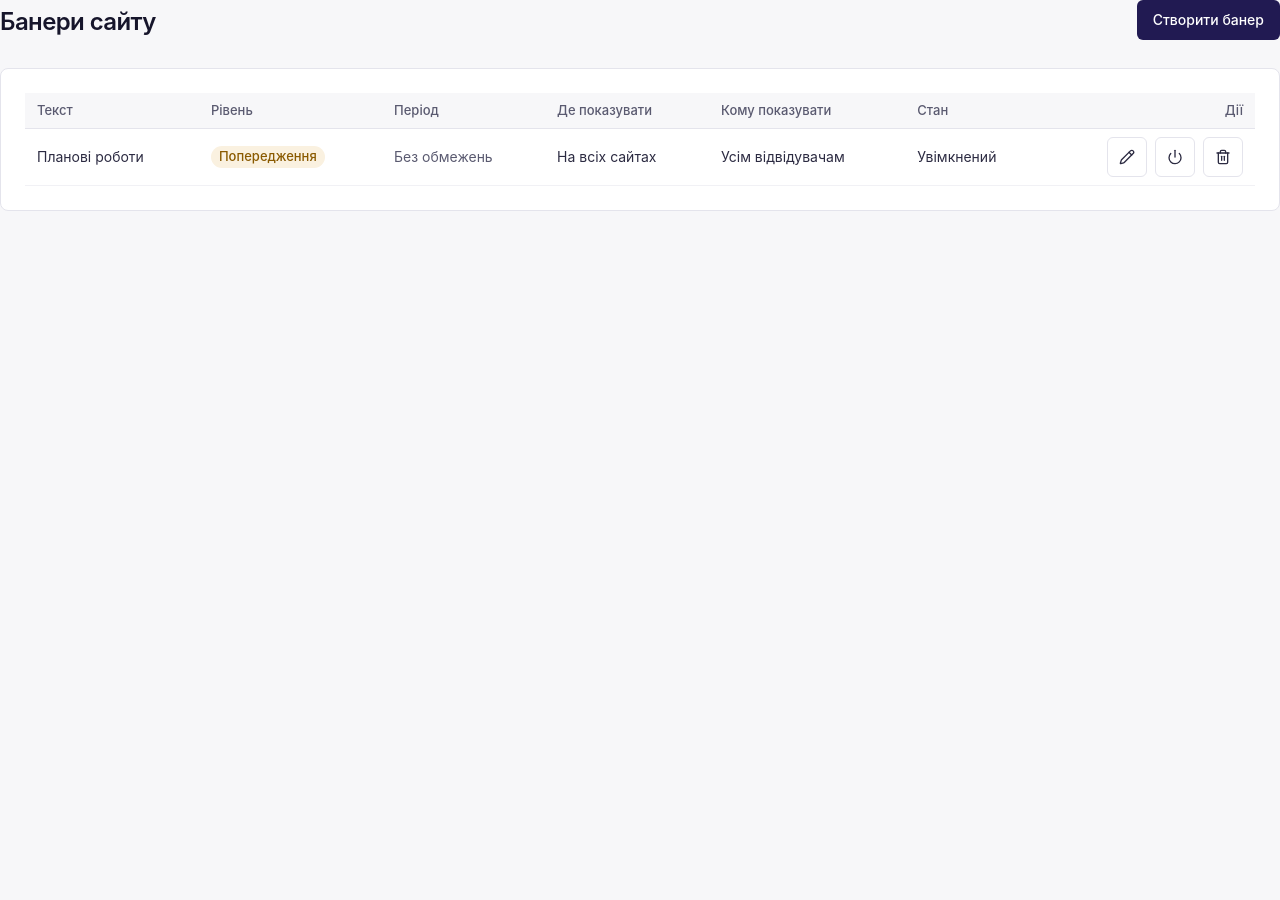
Test: banners admin page › uses icon actions and the requested target names without a separate event heading
Expected: the button named "Вимкнути" is empty, 1155,137 -> 1195,177
Expected: the button named "Видалити" is empty, 1203,137 -> 1243,177
Click the button named "Редагувати". click: (1127, 157)
box: 1107,137 -> 1147,177
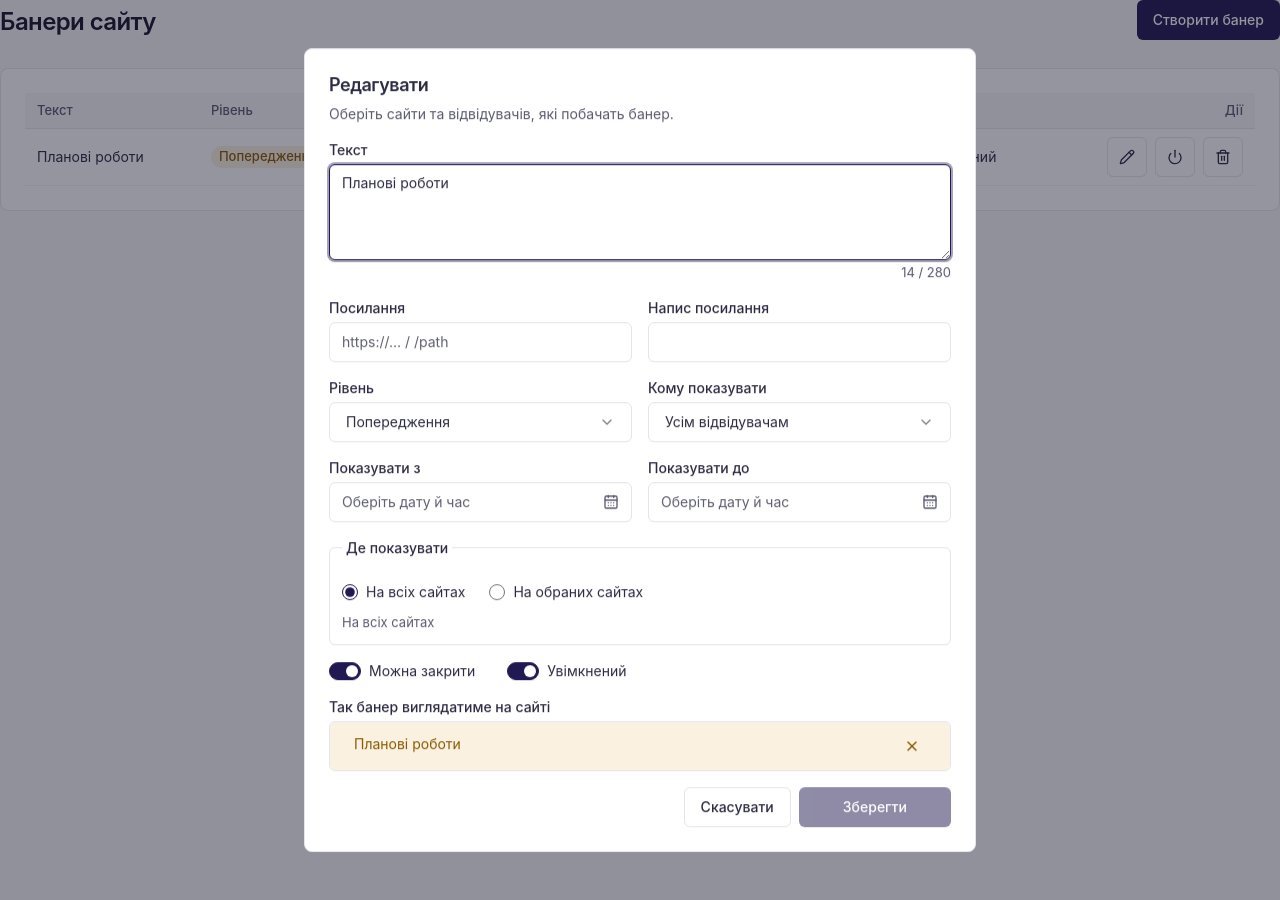
Click the radio button labelled "На обраних сайтах". click: (497, 592)
box: 489,584 -> 505,600
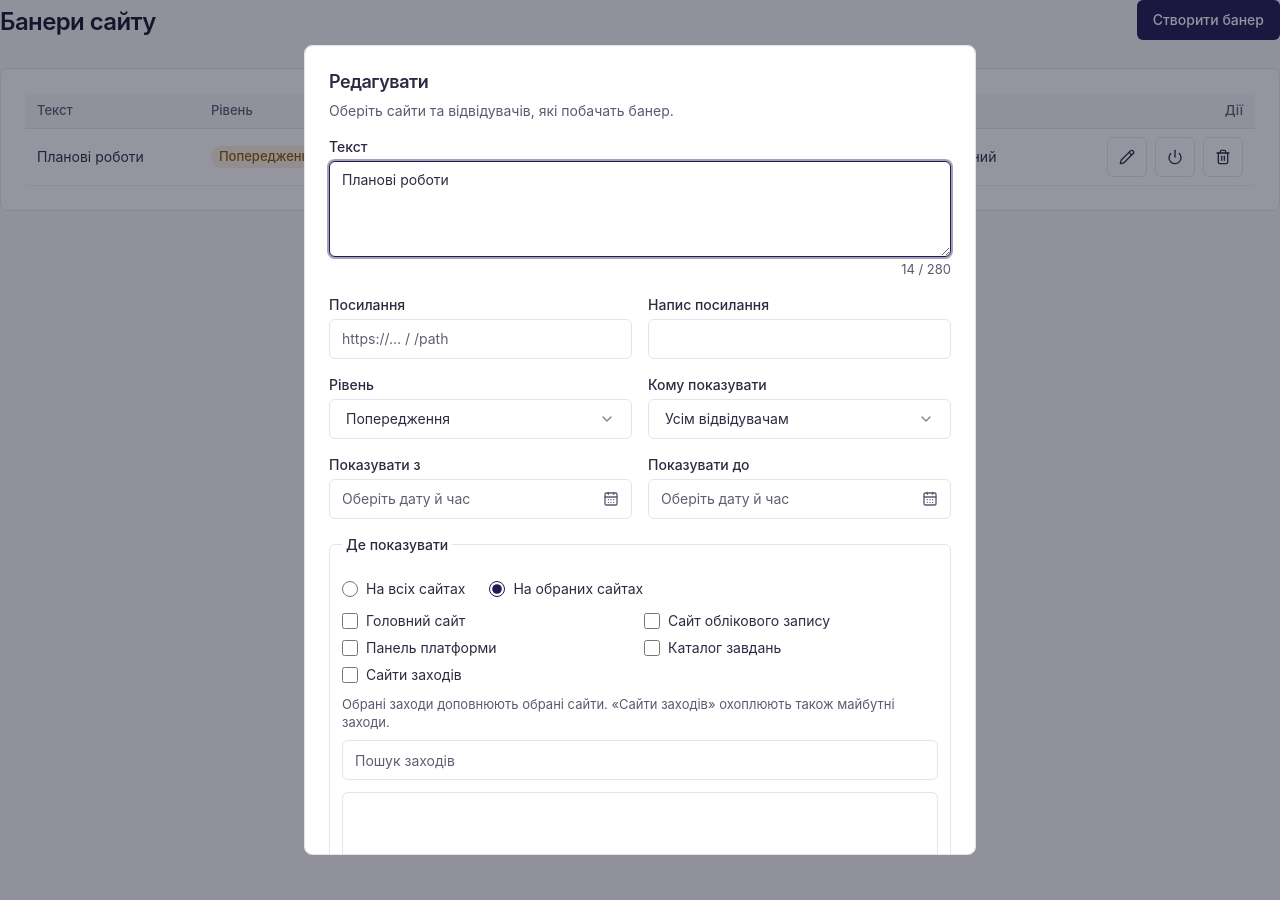
Expected: the checkbox labelled "Головний сайт" is shown, 342,613 -> 358,629
Expected: the checkbox labelled "Сайт облікового запису" is shown, 644,613 -> 660,629
Expected: the checkbox labelled "Панель платформи" is shown, 342,640 -> 358,656
